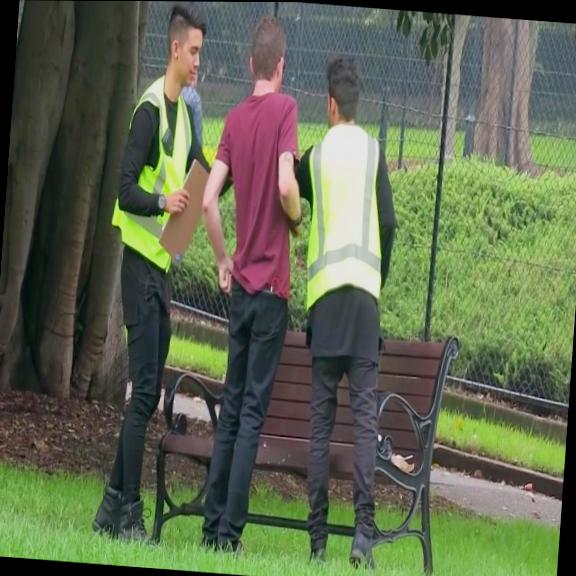safety_vest: (108, 66, 197, 275), (298, 119, 390, 321)
